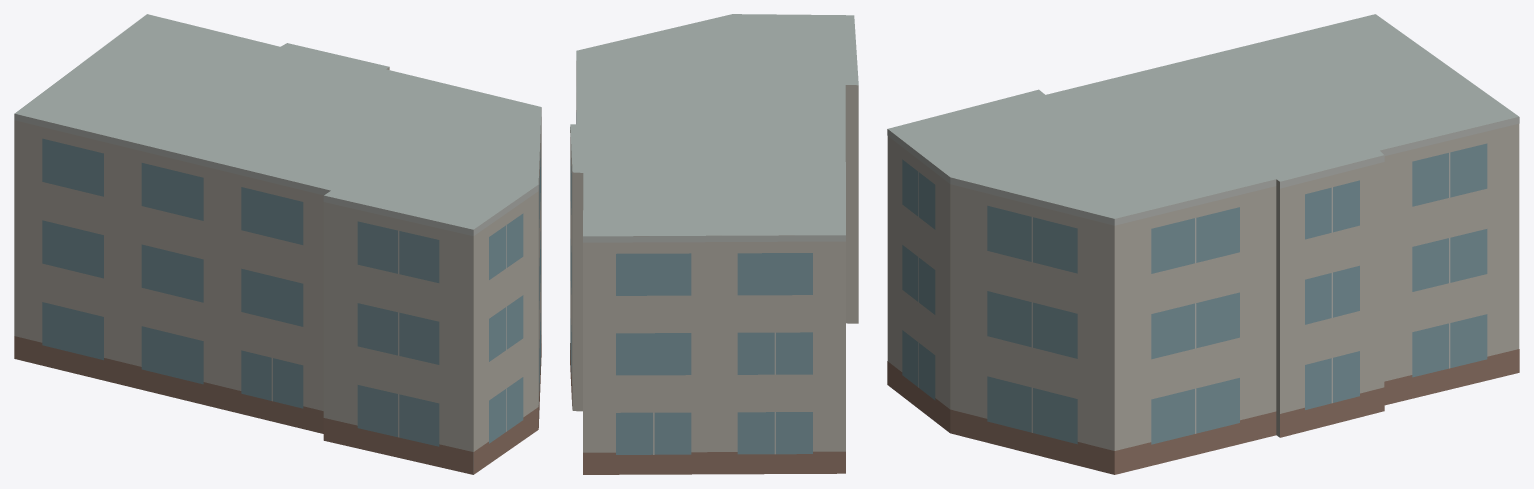
File: survey-upis-32958126.glb
3 views of the same model, side by side, from view 1: azimuth 30°, elevation 25°; view 2: azimuth 150°, elevation 25°; view 3: azimuth 270°, elevation 25° (orthographic). The views are drawn at different scales.
Visible parts, largest first — view 1: survey-upis-32958126.tmp; view 2: survey-upis-32958126.tmp; view 3: survey-upis-32958126.tmp.
Part boxes in pixels (left/top/right/bottom): survey-upis-32958126.tmp: left=14, top=14, right=541, bottom=474; survey-upis-32958126.tmp: left=570, top=14, right=858, bottom=474; survey-upis-32958126.tmp: left=887, top=14, right=1519, bottom=474.
Size of the model in its own units: 15.72 by 9.15 by 20.48.
